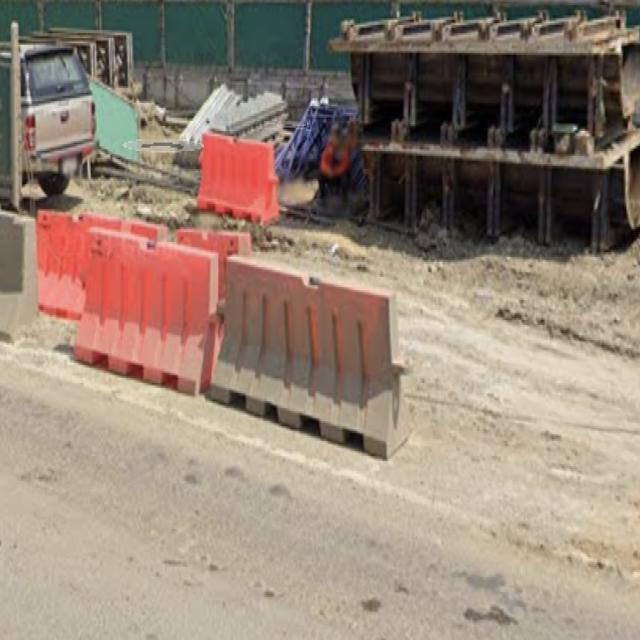fallen_object: (206, 243, 413, 478), (60, 216, 218, 416), (193, 117, 296, 247), (0, 187, 50, 363)
